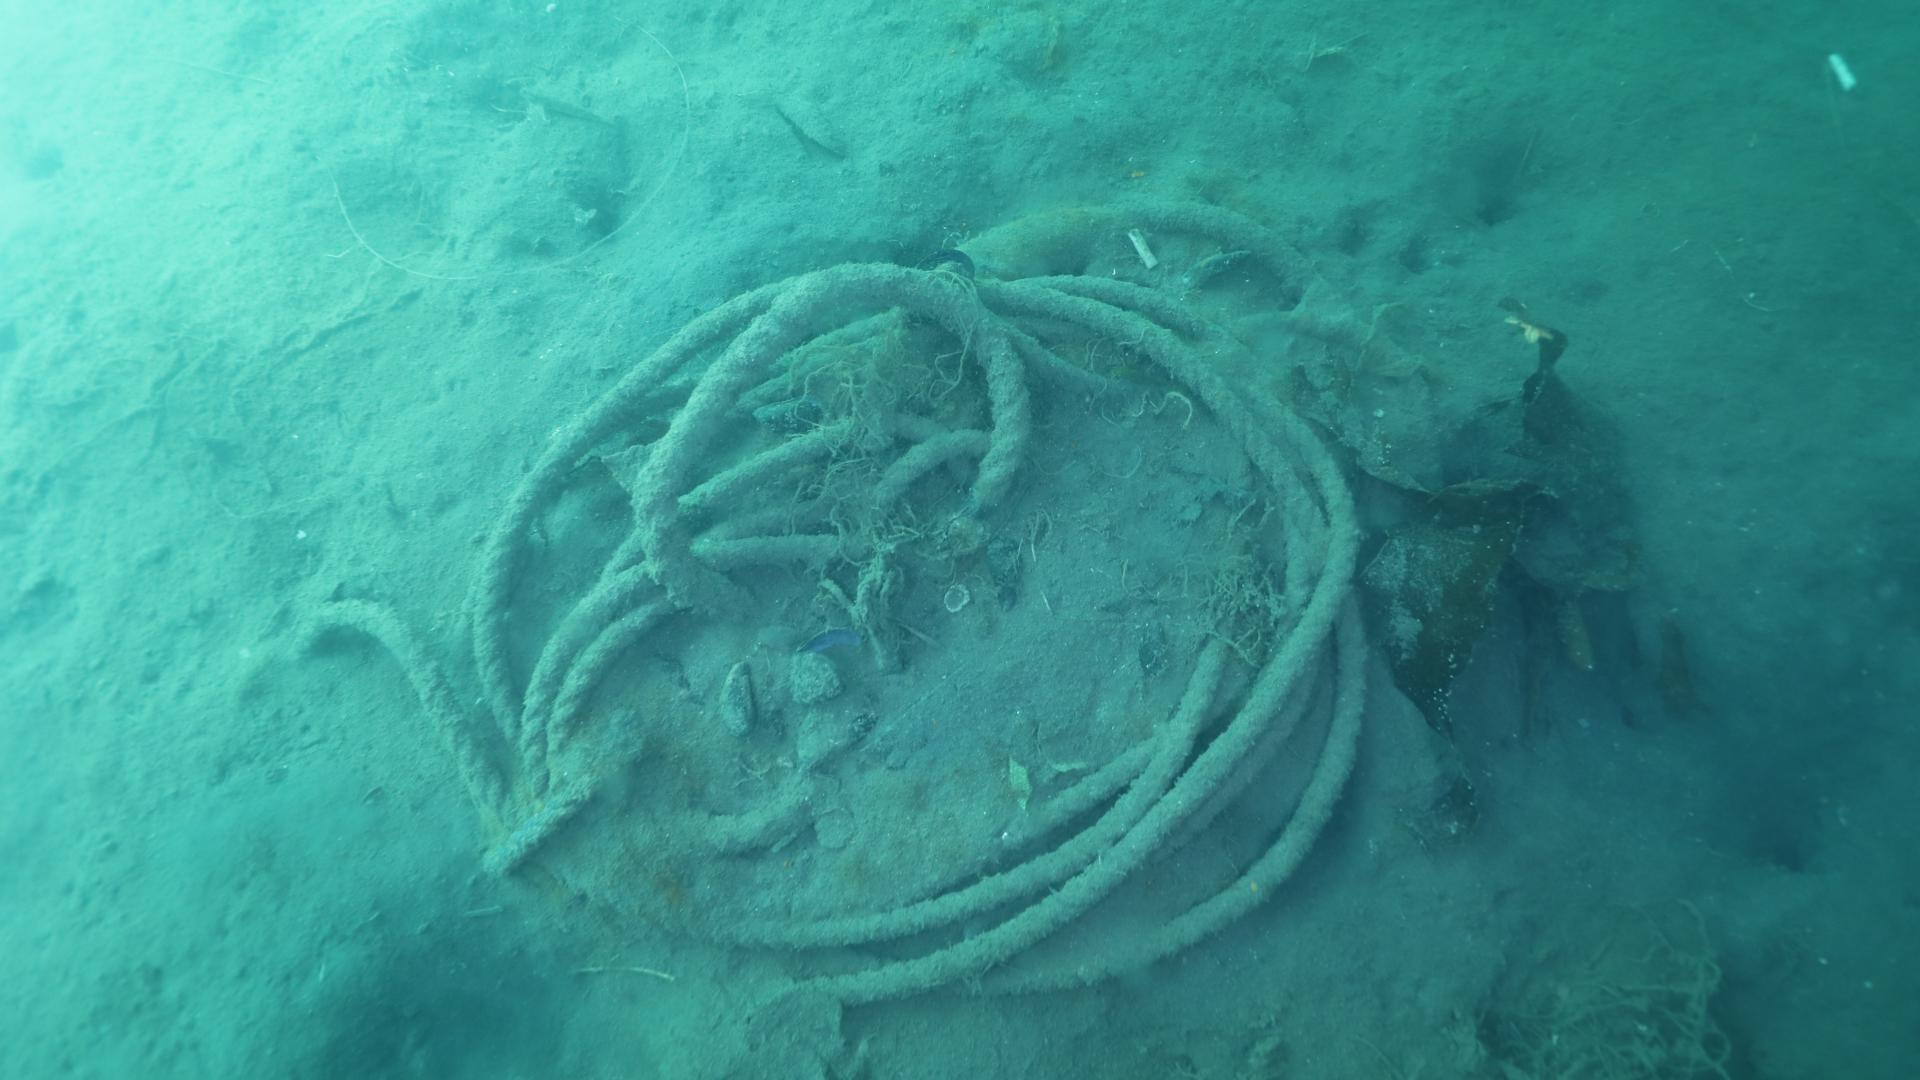bundle of ropes: (280, 262, 1371, 1004)
